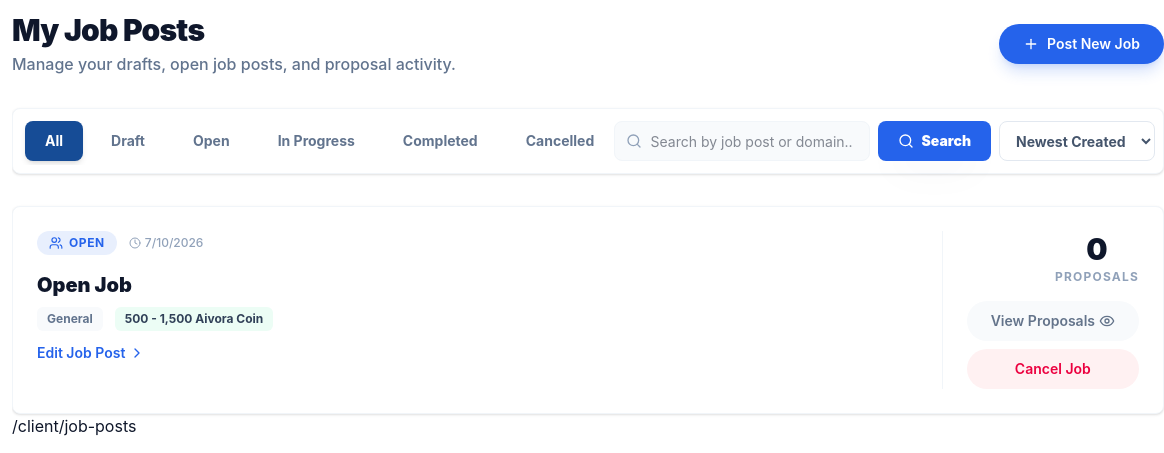
Scenario: MyJobPostsPage › Title navigation › navigates to the job post editor for an open job without a project ID
This screenshot has width=1164, height=453.
Click the link "Open Job". click: x=84, y=285
box: [37,271,132,299]
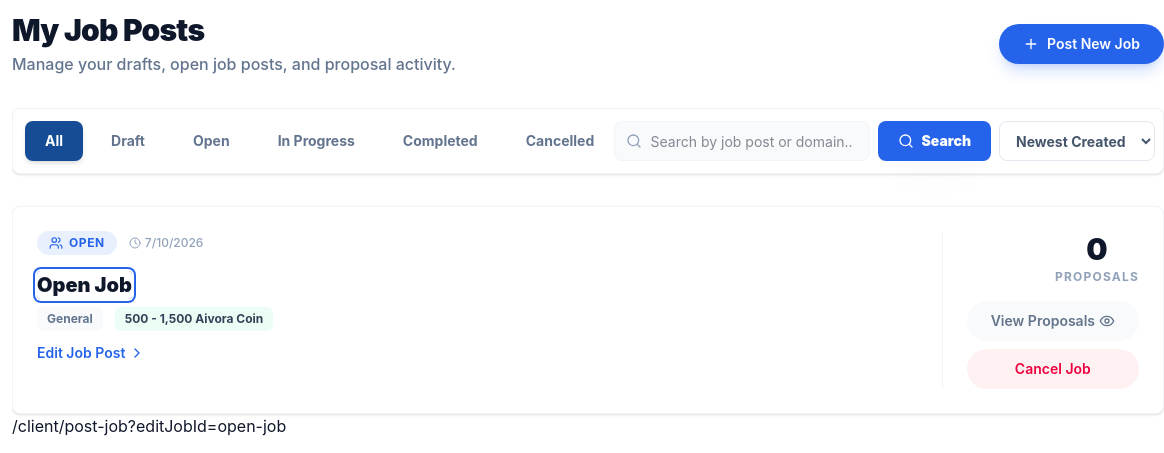
Expected: the text named "current path" reads "/client/post-job?editJobId=open-job", [12,416,286,436]
